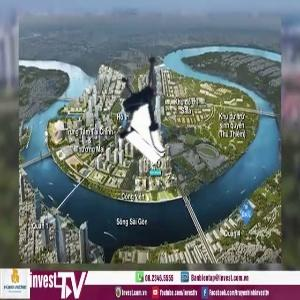drone: (94, 47, 198, 151)
